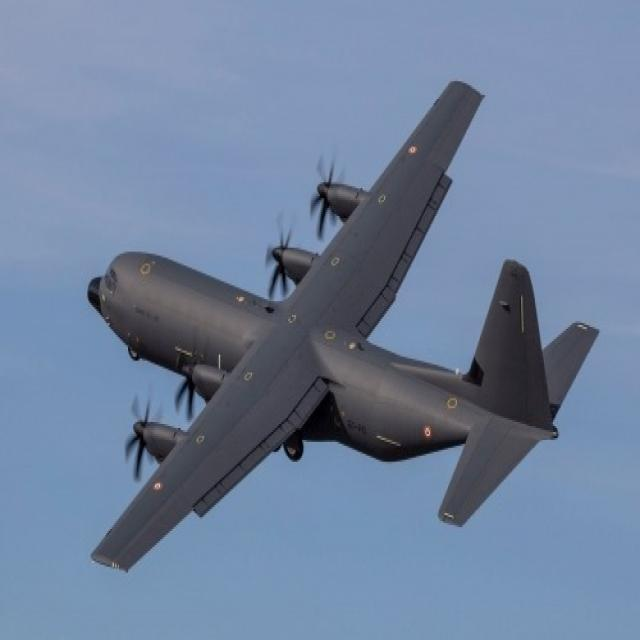C130: (13, 56, 640, 586)
